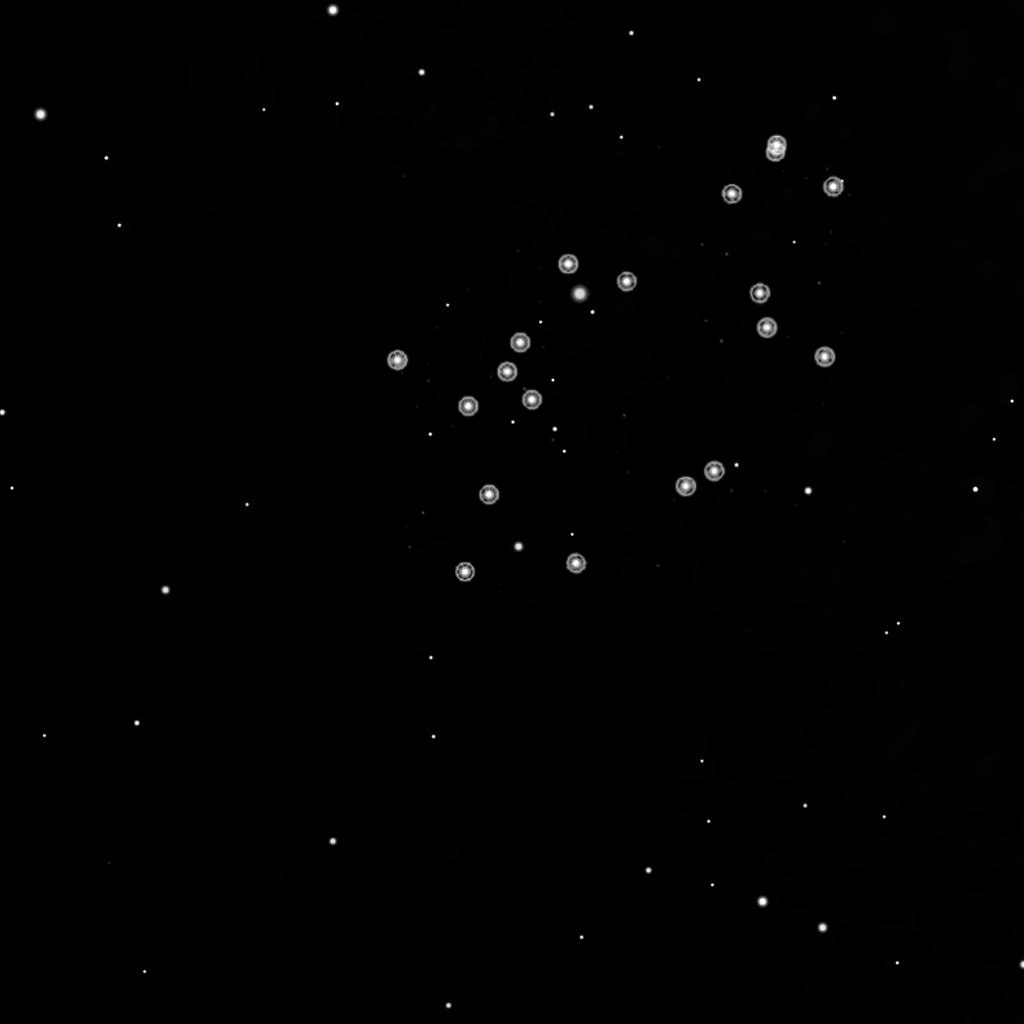canis_major: (448, 245, 641, 426)
